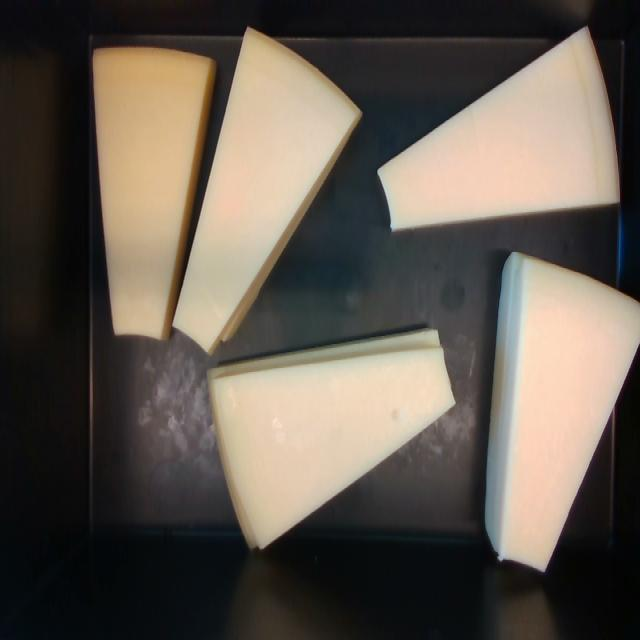cheese: (175, 31, 359, 351), (211, 348, 453, 547), (379, 29, 618, 229), (499, 254, 639, 569), (96, 49, 208, 337)
